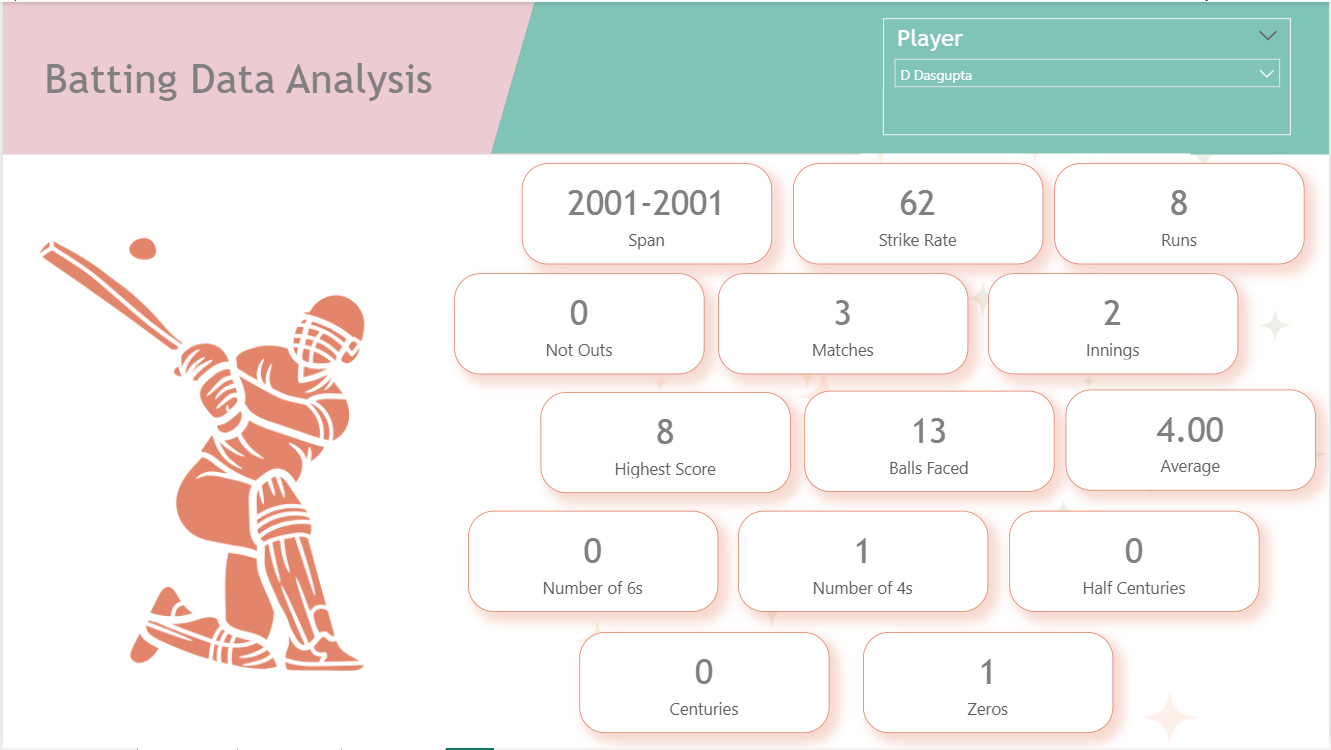

This screenshot's page, from the dashboard's own definition file:
{"tool":"powerbi","page":{"name":"Batting","canvas":[1280,720],"ordinal":0},"visuals":[{"type":"shape","box":[0,0,827.4,147.3],"z":0},{"type":"shape","box":[470.4,0,809.6,146.5],"z":1000},{"type":"shape","box":[1146.1,0,133.9,147.3],"z":2000},{"type":"slicer","fields":{"Values":["Batting.Player"]},"box":[848.9,16.1,393.6,112.5],"z":3000},{"type":"card","fields":{"Values":["Min(Batting.Span)"]},"box":[500.7,155.6,241.3,97.7],"z":4000},{"type":"card","fields":{"Values":["Sum(Batting.SR)"]},"box":[762.5,155.6,241.3,97.7],"z":5000},{"type":"card","fields":{"Values":["Sum(Batting.Runs)"]},"box":[1014.6,155.6,241.3,97.7],"z":6000},{"type":"card","fields":{"Values":["Sum(Batting.NO)"]},"box":[435.5,261.8,241.3,97.7],"z":7000},{"type":"card","fields":{"Values":["Sum(Batting.Mat)"]},"box":[690.1,261.8,241.3,97.7],"z":8000},{"type":"card","fields":{"Values":["Sum(Batting.Inns)"]},"box":[950.7,261.8,241.3,97.7],"z":9000},{"type":"card","fields":{"Values":["Min(Batting.HS)"]},"box":[518.8,376.4,241.3,97.7],"z":10000},{"type":"card","fields":{"Values":["Sum(Batting.BF)"]},"box":[773.3,375.2,241.3,97.7],"z":11000},{"type":"card","fields":{"Values":["Sum(Batting.Ave)"]},"box":[1025.5,374,241.3,97.7],"z":12000},{"type":"card","fields":{"Values":["Sum(Batting.6s)"]},"box":[448.8,491,241.3,97.7],"z":13000},{"type":"card","fields":{"Values":["Sum(Batting.4s)"]},"box":[709.4,491,241.3,97.7],"z":14000},{"type":"card","fields":{"Values":["Sum(Batting.50)"]},"box":[971.2,491,241.3,97.7],"z":15000},{"type":"card","fields":{"Values":["Sum(Batting.100)"]},"box":[556.2,608,241.3,97.7],"z":16000},{"type":"card","fields":{"Values":["Sum(Batting.0)"]},"box":[830,608,241.3,97.7],"z":17000}]}

Visuals, with their boxes in screenshot pixels (x1, y1, x2, y2), scaled from the page's 1280x720 canvas onto the 1331x750 screenshot:
shape: detection(0, 0, 860, 153)
shape: detection(489, 0, 1330, 153)
shape: detection(1192, 0, 1330, 153)
slicer - Batting.Player: detection(883, 17, 1292, 134)
card - Min(Batting.Span): detection(521, 162, 772, 264)
card - Sum(Batting.SR): detection(793, 162, 1044, 264)
card - Sum(Batting.Runs): detection(1055, 162, 1306, 264)
card - Sum(Batting.NO): detection(453, 273, 704, 374)
card - Sum(Batting.Mat): detection(718, 273, 969, 374)
card - Sum(Batting.Inns): detection(989, 273, 1239, 374)
card - Min(Batting.HS): detection(539, 392, 790, 494)
card - Sum(Batting.BF): detection(804, 391, 1055, 493)
card - Sum(Batting.Ave): detection(1066, 390, 1317, 491)
card - Sum(Batting.6s): detection(467, 511, 718, 613)
card - Sum(Batting.4s): detection(738, 511, 989, 613)
card - Sum(Batting.50): detection(1010, 511, 1261, 613)
card - Sum(Batting.100): detection(578, 633, 829, 735)
card - Sum(Batting.0): detection(863, 633, 1114, 735)
